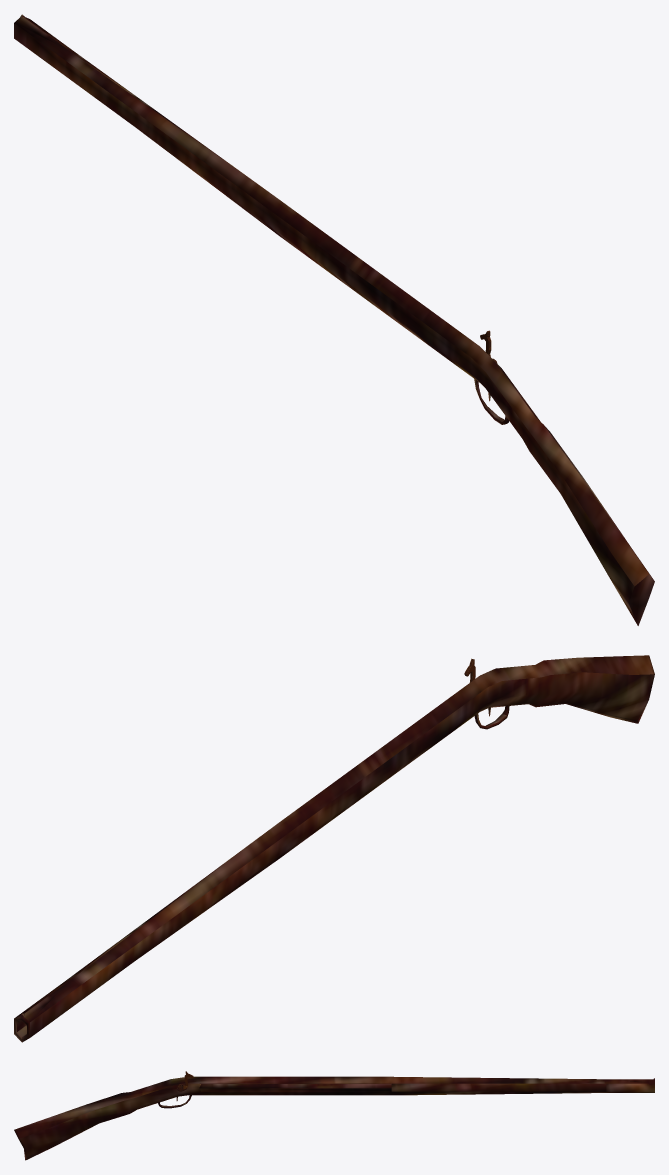
File: kentuki.obj
The picture shows the model from 3 angles, top to bottom: view 1: azimuth 30°, elevation 25°; view 2: azimuth 150°, elevation 25°; view 3: azimuth 270°, elevation 25°; orthographic projection. The views are drawn at different scales.
Visible parts, largest first — view 1: Cube; view 2: Cube; view 3: Cube.
Boxes of the visible parts, <box> form: Cube: <box>14,14,654,625</box>; Cube: <box>14,655,654,1042</box>; Cube: <box>14,1076,654,1160</box>.
Size of the model in its own units: 0.6027 by 5.04 by 32.1.
